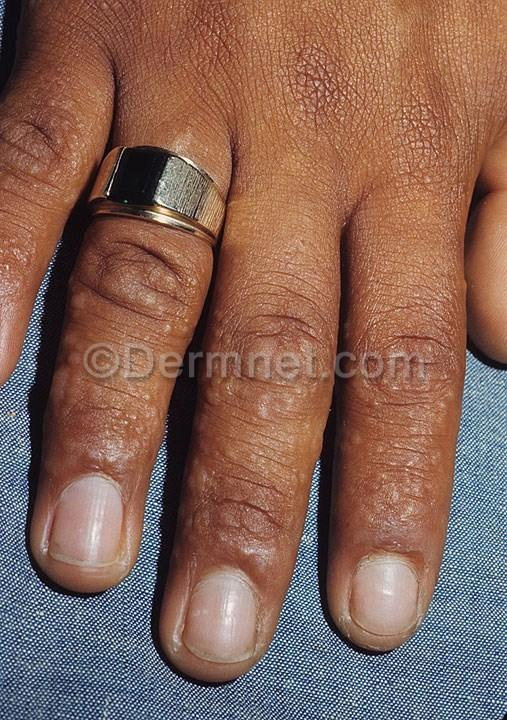Eczema: (340, 426, 437, 524), (376, 269, 443, 383), (231, 291, 310, 380), (218, 474, 284, 553), (79, 389, 137, 469)
